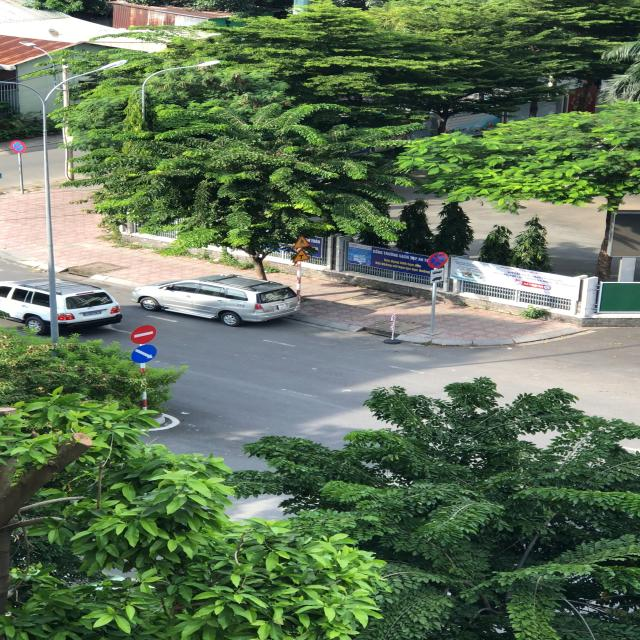Bien bao cam di nguoc chieu: (126, 324, 162, 344)
Bien bao cam dung xe va do xe: (424, 249, 451, 270)
Bien bao duong giao nhau: (290, 249, 314, 263)
Bien bao duong nguoi di bo cat ngang: (291, 234, 314, 249)
Bien bao huong phai di vong chuong ngai vat: (128, 344, 162, 364)
